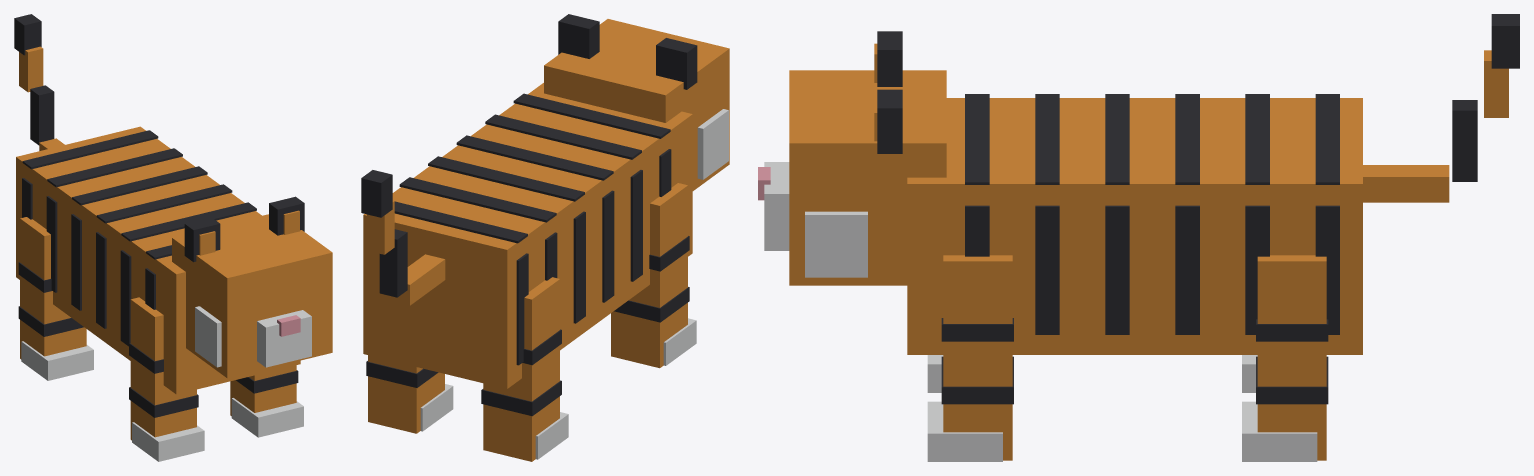
The model's file is harimau_sumatera.glb.
The picture shows the model from 3 angles, left to right: view 1: azimuth 30°, elevation 25°; view 2: azimuth 150°, elevation 25°; view 3: azimuth 270°, elevation 25°; orthographic projection. The views are drawn at different scales.
Visible parts, largest first — view 1: harimau_sumatera; view 2: harimau_sumatera; view 3: harimau_sumatera.
Boxes of the visible parts, bbox=[...] form: harimau_sumatera: bbox=[14, 14, 332, 461]; harimau_sumatera: bbox=[361, 14, 729, 461]; harimau_sumatera: bbox=[758, 14, 1519, 461].
Size of the model in its own units: 0.76 by 1.38 by 2.43.
